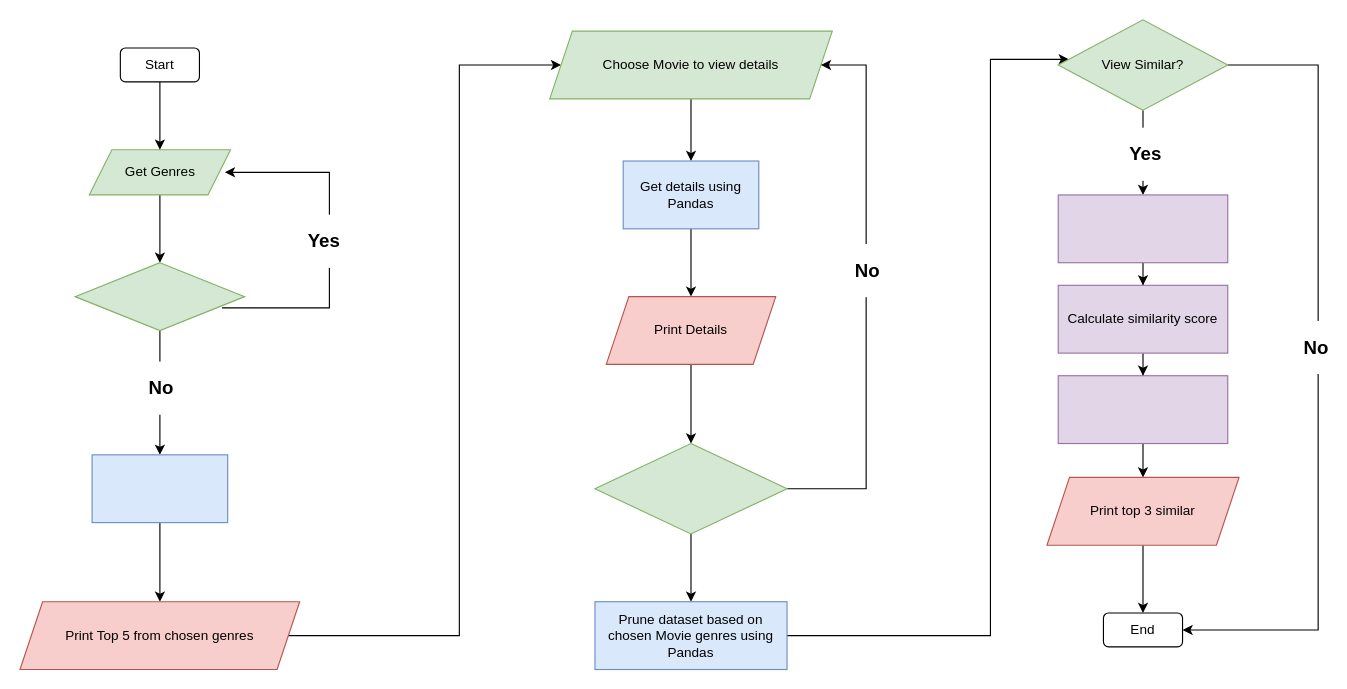
Some shapes in this 1347 by 689 pixel diagram are drawn without their labels. The shapes that lost their labels are listed below. From the top down, each one's centre as x and y in pixels, then its label:
At pixel 1142 228: "Store pruned dataset in MaxHeap".
At pixel 159 296: "Add More?".
At pixel 1142 409: "Sort using HeapSort".
At pixel 159 488: "Filter data using Pandas".
At pixel 690 488: "Select Movie?".
